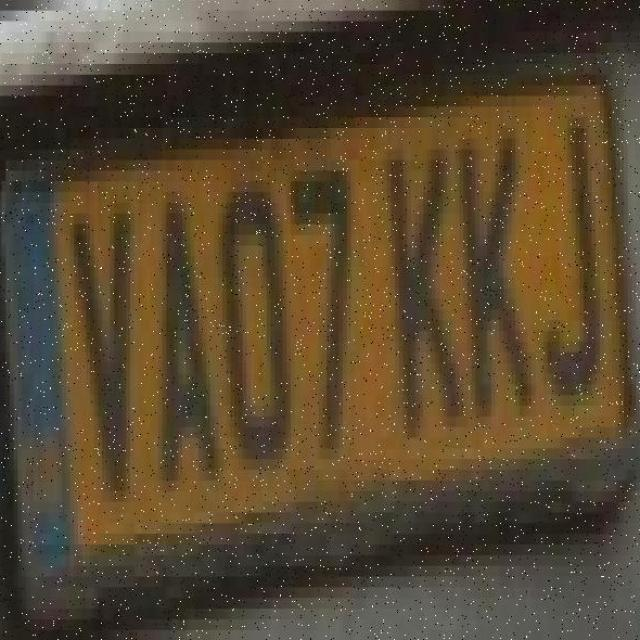license-plate: (6, 72, 625, 640)
